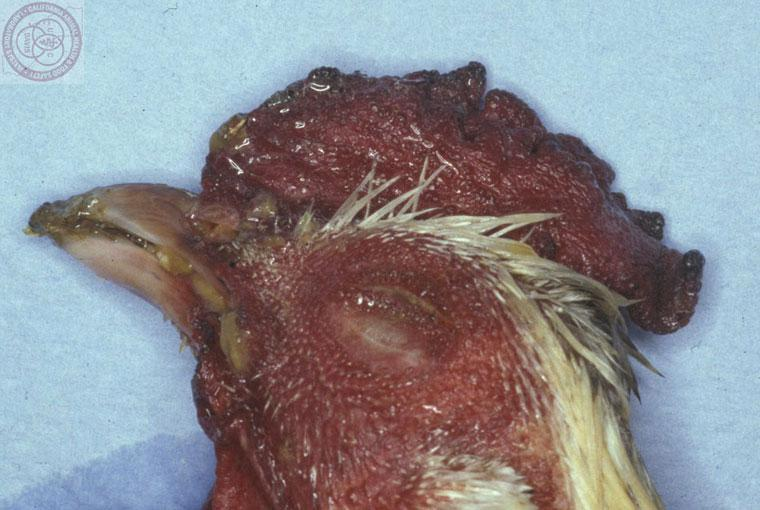AbNormal: (26, 61, 706, 510)
